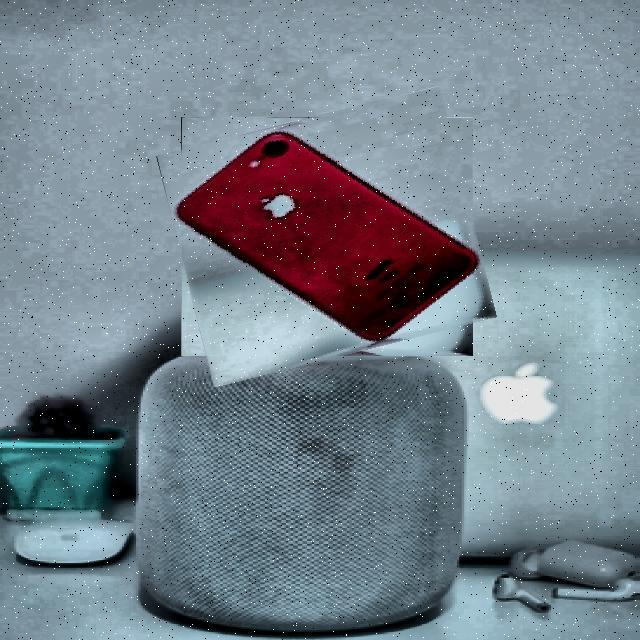Phone: (168, 101, 486, 372)
